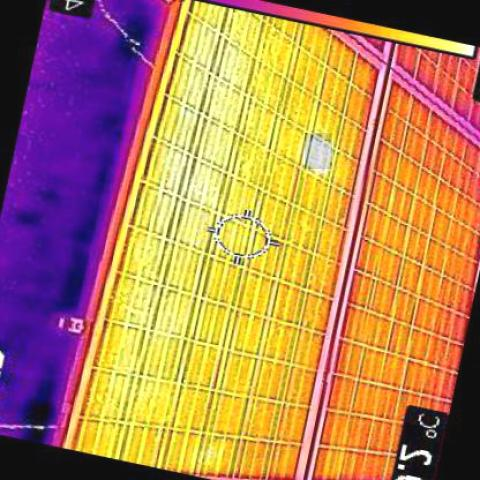fault: (305, 134, 332, 169)
